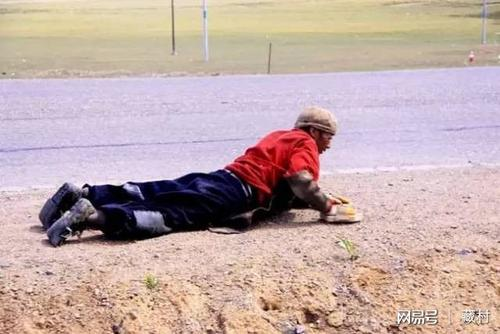down: (34, 105, 369, 248)
